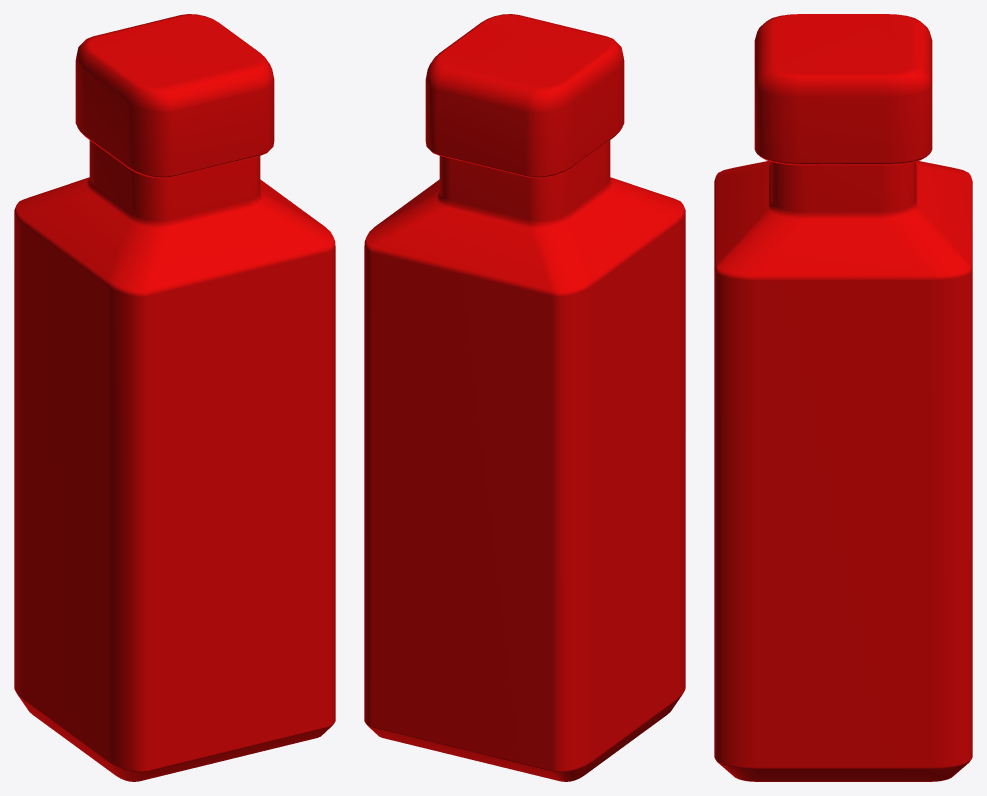
File: Package_6.fbx
3 renders of one model, left to right at view 1: azimuth 30°, elevation 25°; view 2: azimuth 150°, elevation 25°; view 3: azimuth 270°, elevation 25°, orthographic. The views are drawn at different scales.
Parts seen in each view (by area): view 1: L8:polySurface8; view 2: L8:polySurface8; view 3: L8:polySurface8.
Part boxes in pixels (<box>): L8:polySurface8: <box>14,14,335,781</box>; L8:polySurface8: <box>364,14,685,781</box>; L8:polySurface8: <box>714,14,972,781</box>.
Bounding box in the file's own units: 8.42 × 24.51 × 8.33.
